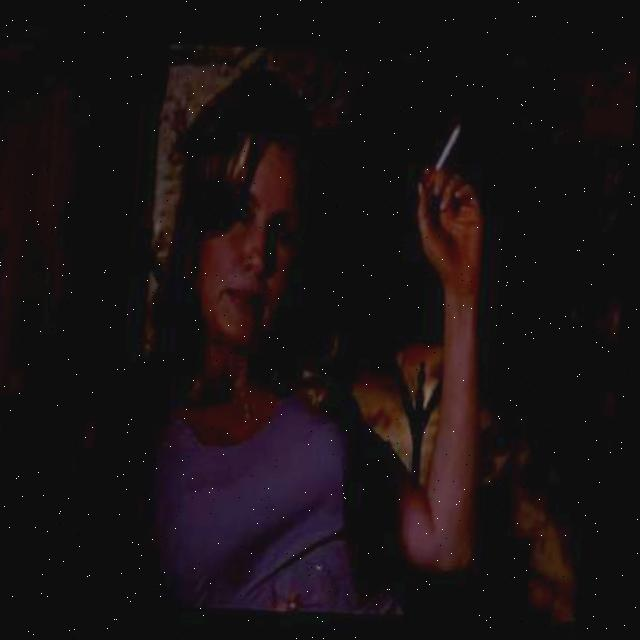cigarette: (435, 118, 463, 169)
